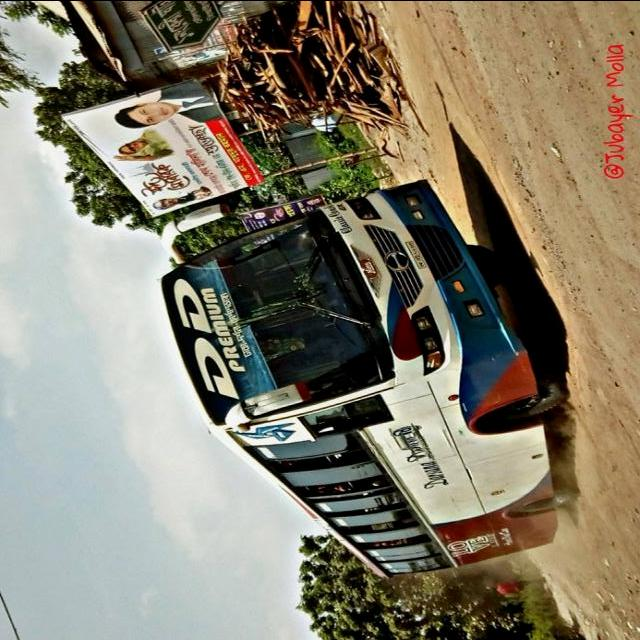bus: (152, 178, 583, 578)
